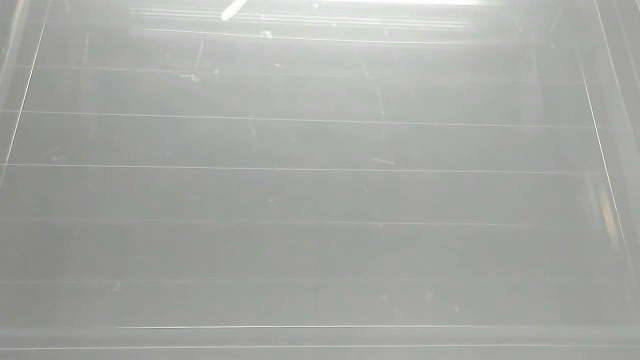alpha: (218, 1, 251, 24)
